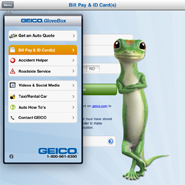geico: (38, 145, 79, 155)
